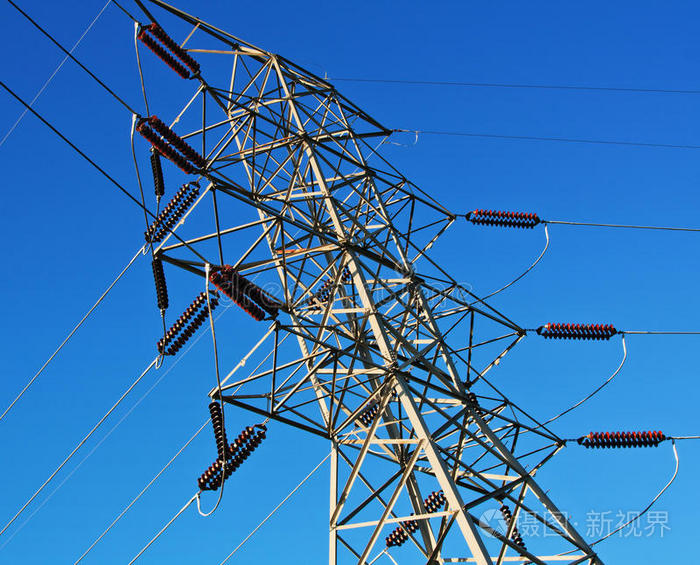insulator: (197, 427, 266, 492), (136, 117, 205, 171), (159, 294, 217, 357), (213, 266, 280, 320), (136, 23, 199, 80), (383, 491, 444, 546), (146, 184, 198, 241), (582, 428, 663, 448), (468, 207, 538, 229), (540, 322, 615, 342), (208, 402, 229, 461), (501, 506, 524, 552), (149, 260, 172, 305), (150, 158, 167, 195)
